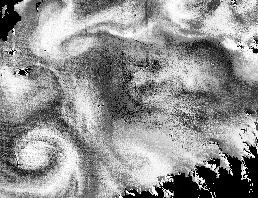CE: (3, 109, 85, 183)
